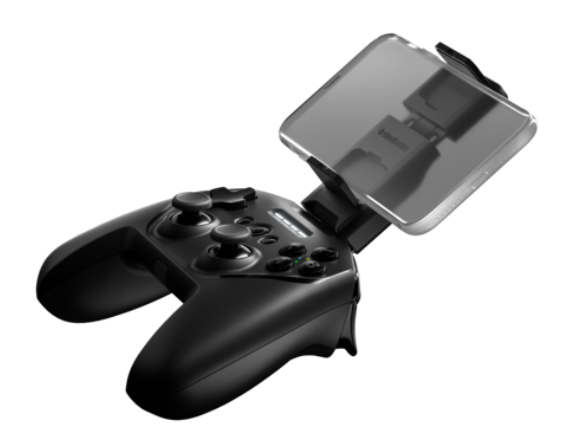controller: (35, 187, 361, 421)
